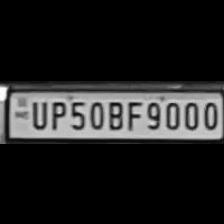0: (180, 97, 200, 129), (86, 97, 104, 129), (162, 97, 180, 129), (200, 98, 218, 130)
5: (66, 97, 86, 130)
9: (142, 98, 162, 130)
B: (104, 97, 124, 130)
F: (124, 98, 142, 130)
P: (47, 97, 66, 129)
U: (28, 97, 48, 129)
